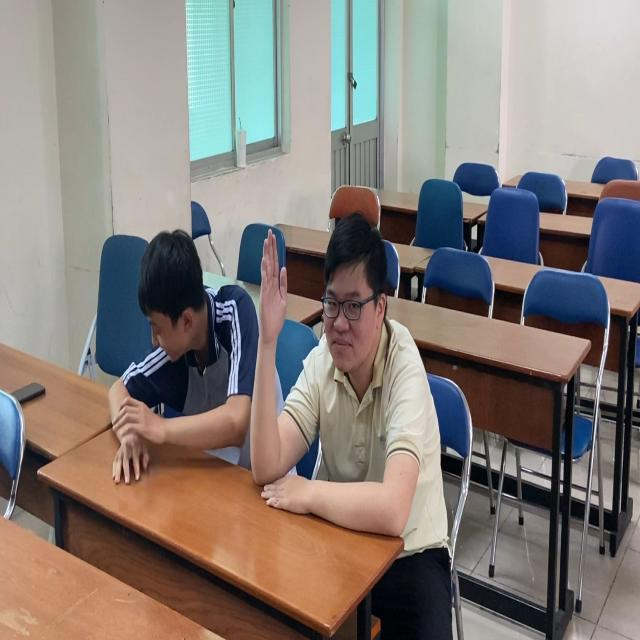raise_hand: (242, 218, 449, 534)
